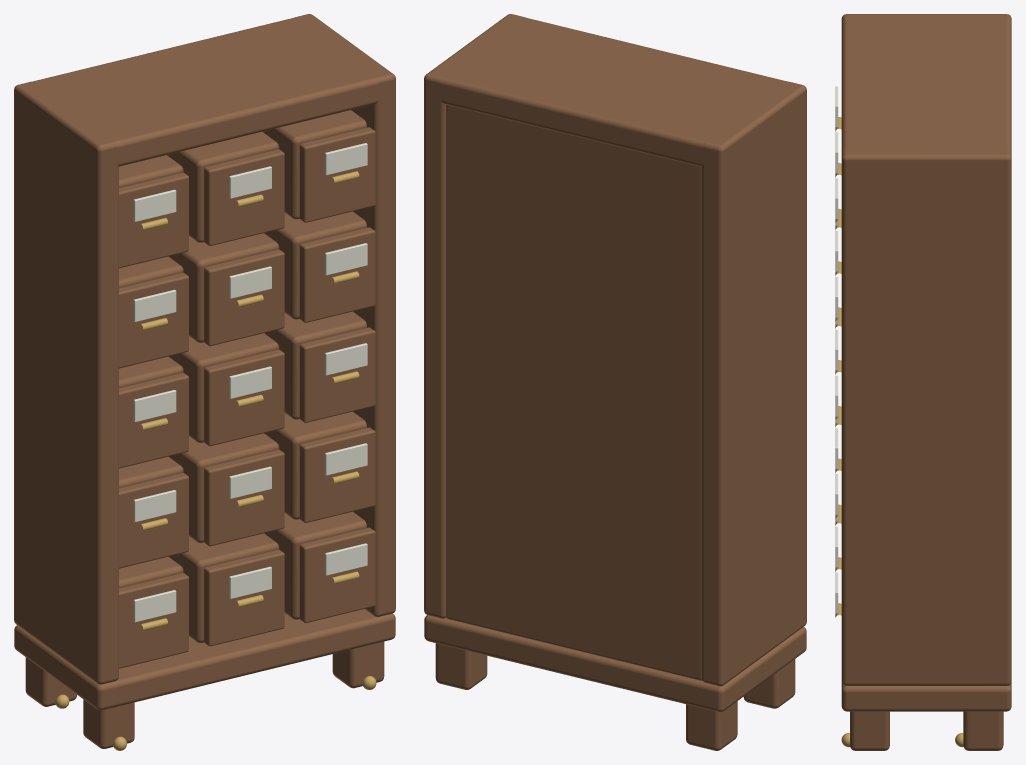
File: clockmaker-and-watch-repair-repair-ticket-cabinet-3f816e06__30643.glb
3 renders of one model, left to right at view 1: azimuth 30°, elevation 25°; view 2: azimuth 150°, elevation 25°; view 3: azimuth 270°, elevation 25°, orthographic.
Visible parts, largest first — view 1: repair-ticket-cabinet; view 2: repair-ticket-cabinet; view 3: repair-ticket-cabinet.
Boxes of the visible parts, <box> form: repair-ticket-cabinet: <box>14,14,395,750</box>; repair-ticket-cabinet: <box>424,14,806,750</box>; repair-ticket-cabinet: <box>835,14,1011,750</box>.
Size of the model in its own units: 0.7201 by 1.4 by 0.3735.
